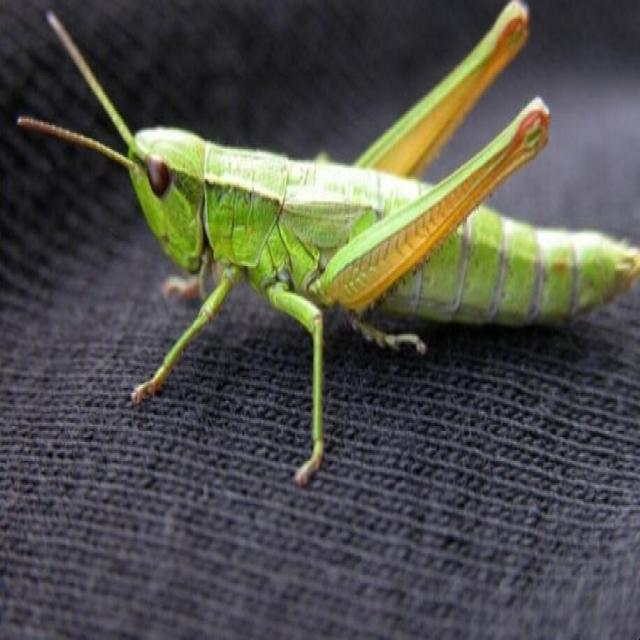ZhaMeng: (80, 10, 633, 456)
